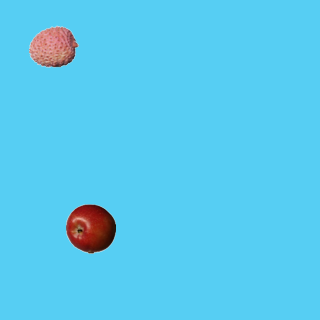Apple Braeburn: (65, 203, 115, 253)
Lychee: (28, 21, 78, 71)
